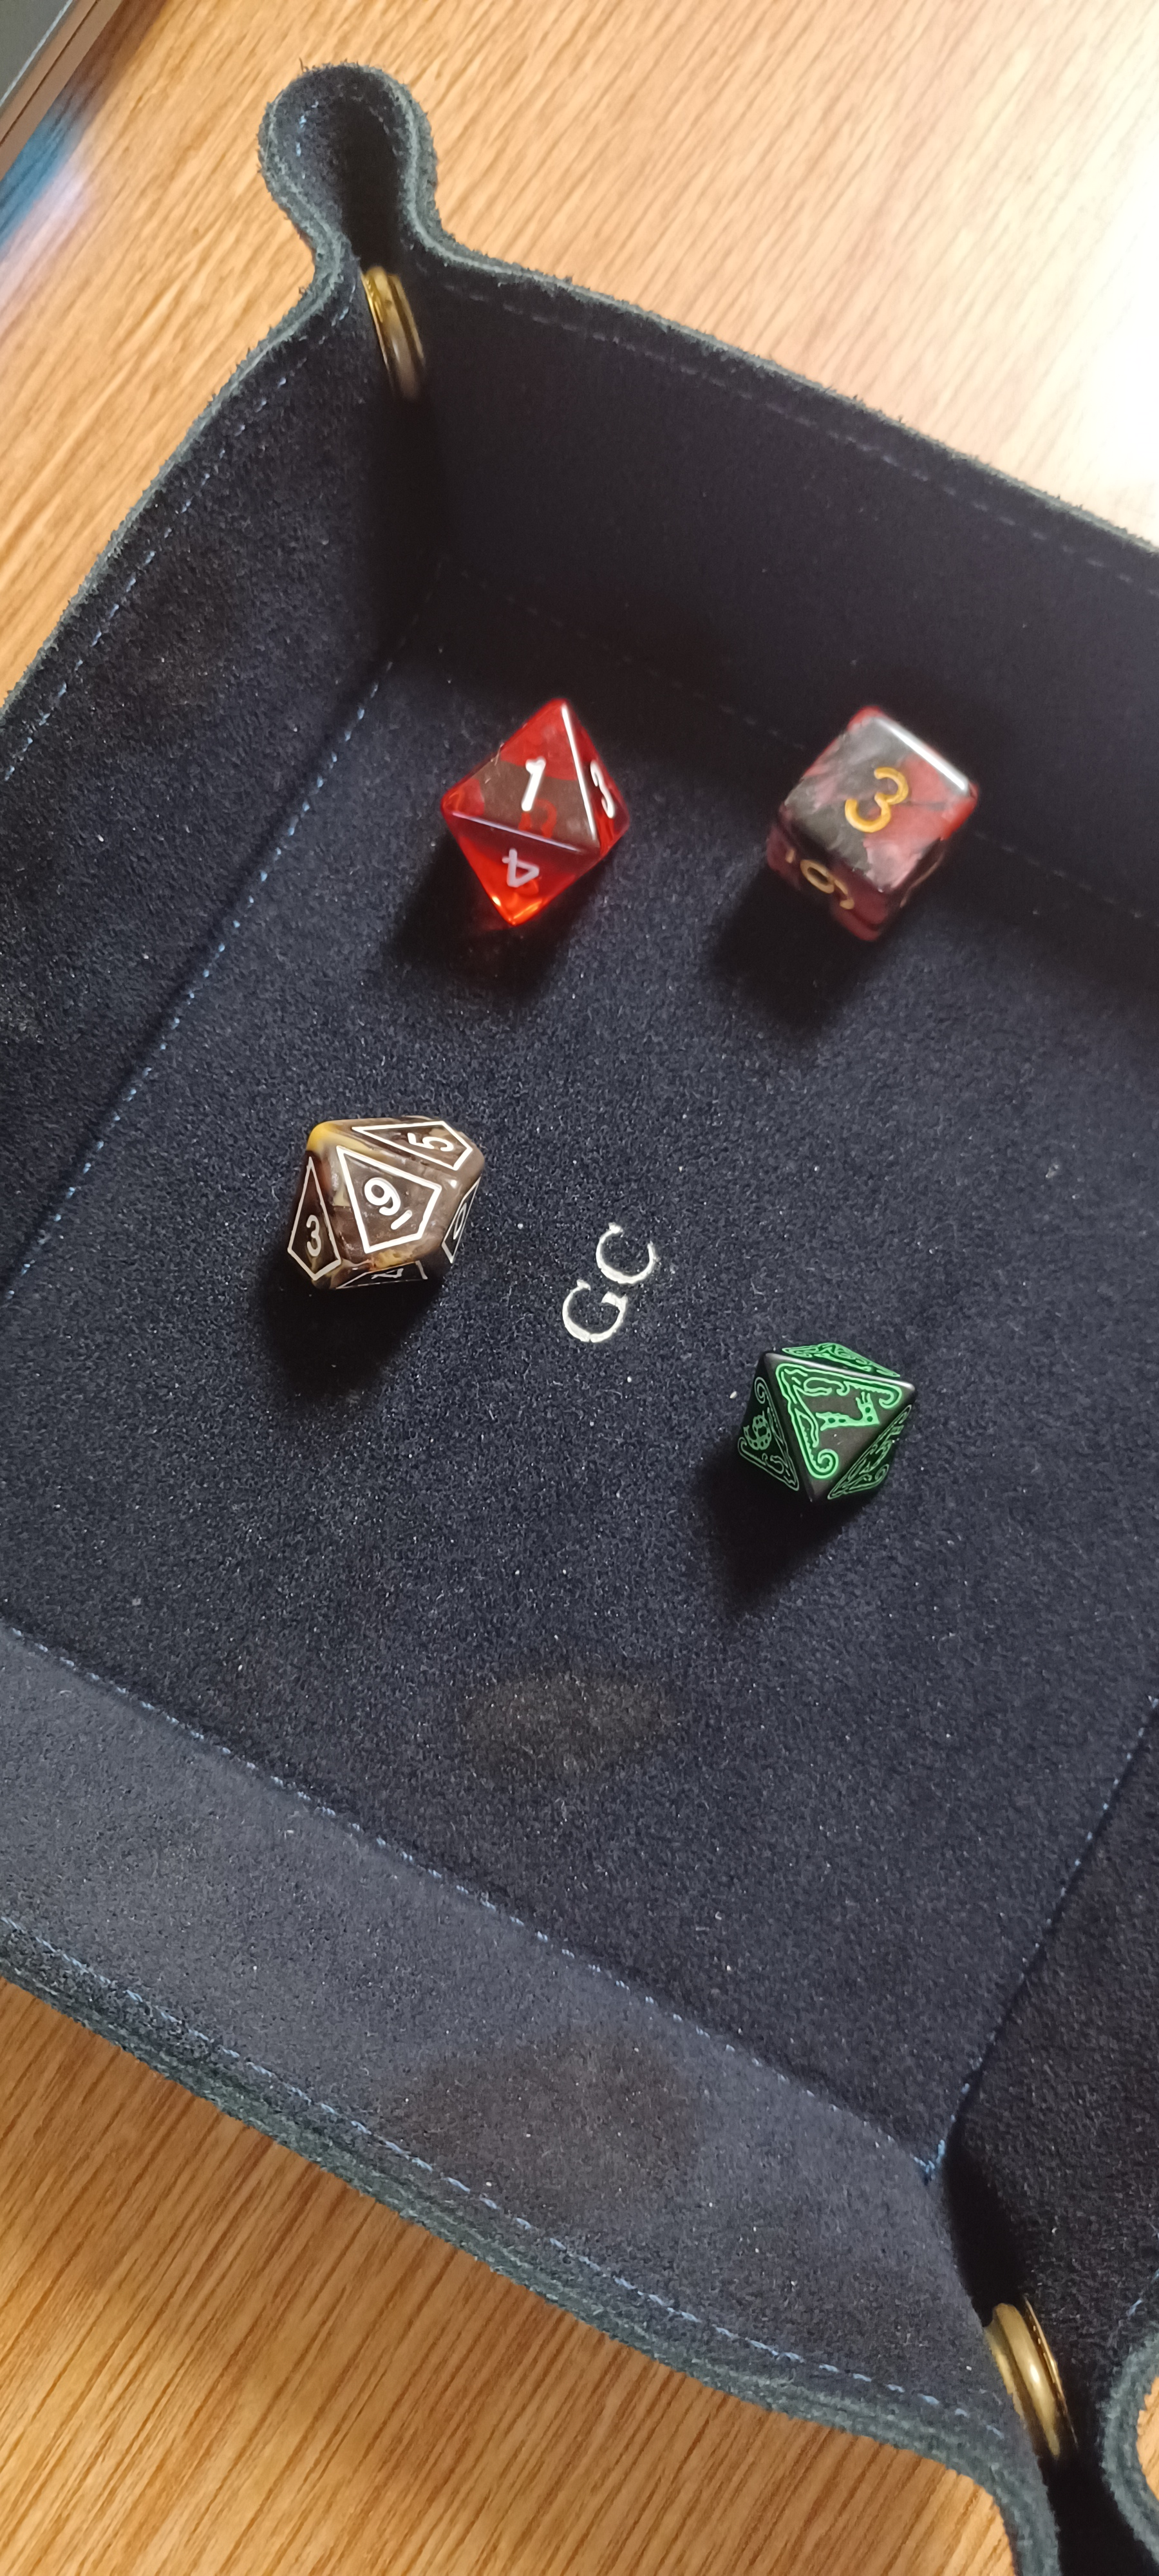nine: (248, 1074, 542, 1344)
one: (427, 665, 648, 938)
seven: (675, 1290, 970, 1566)
three: (745, 677, 1018, 959)
